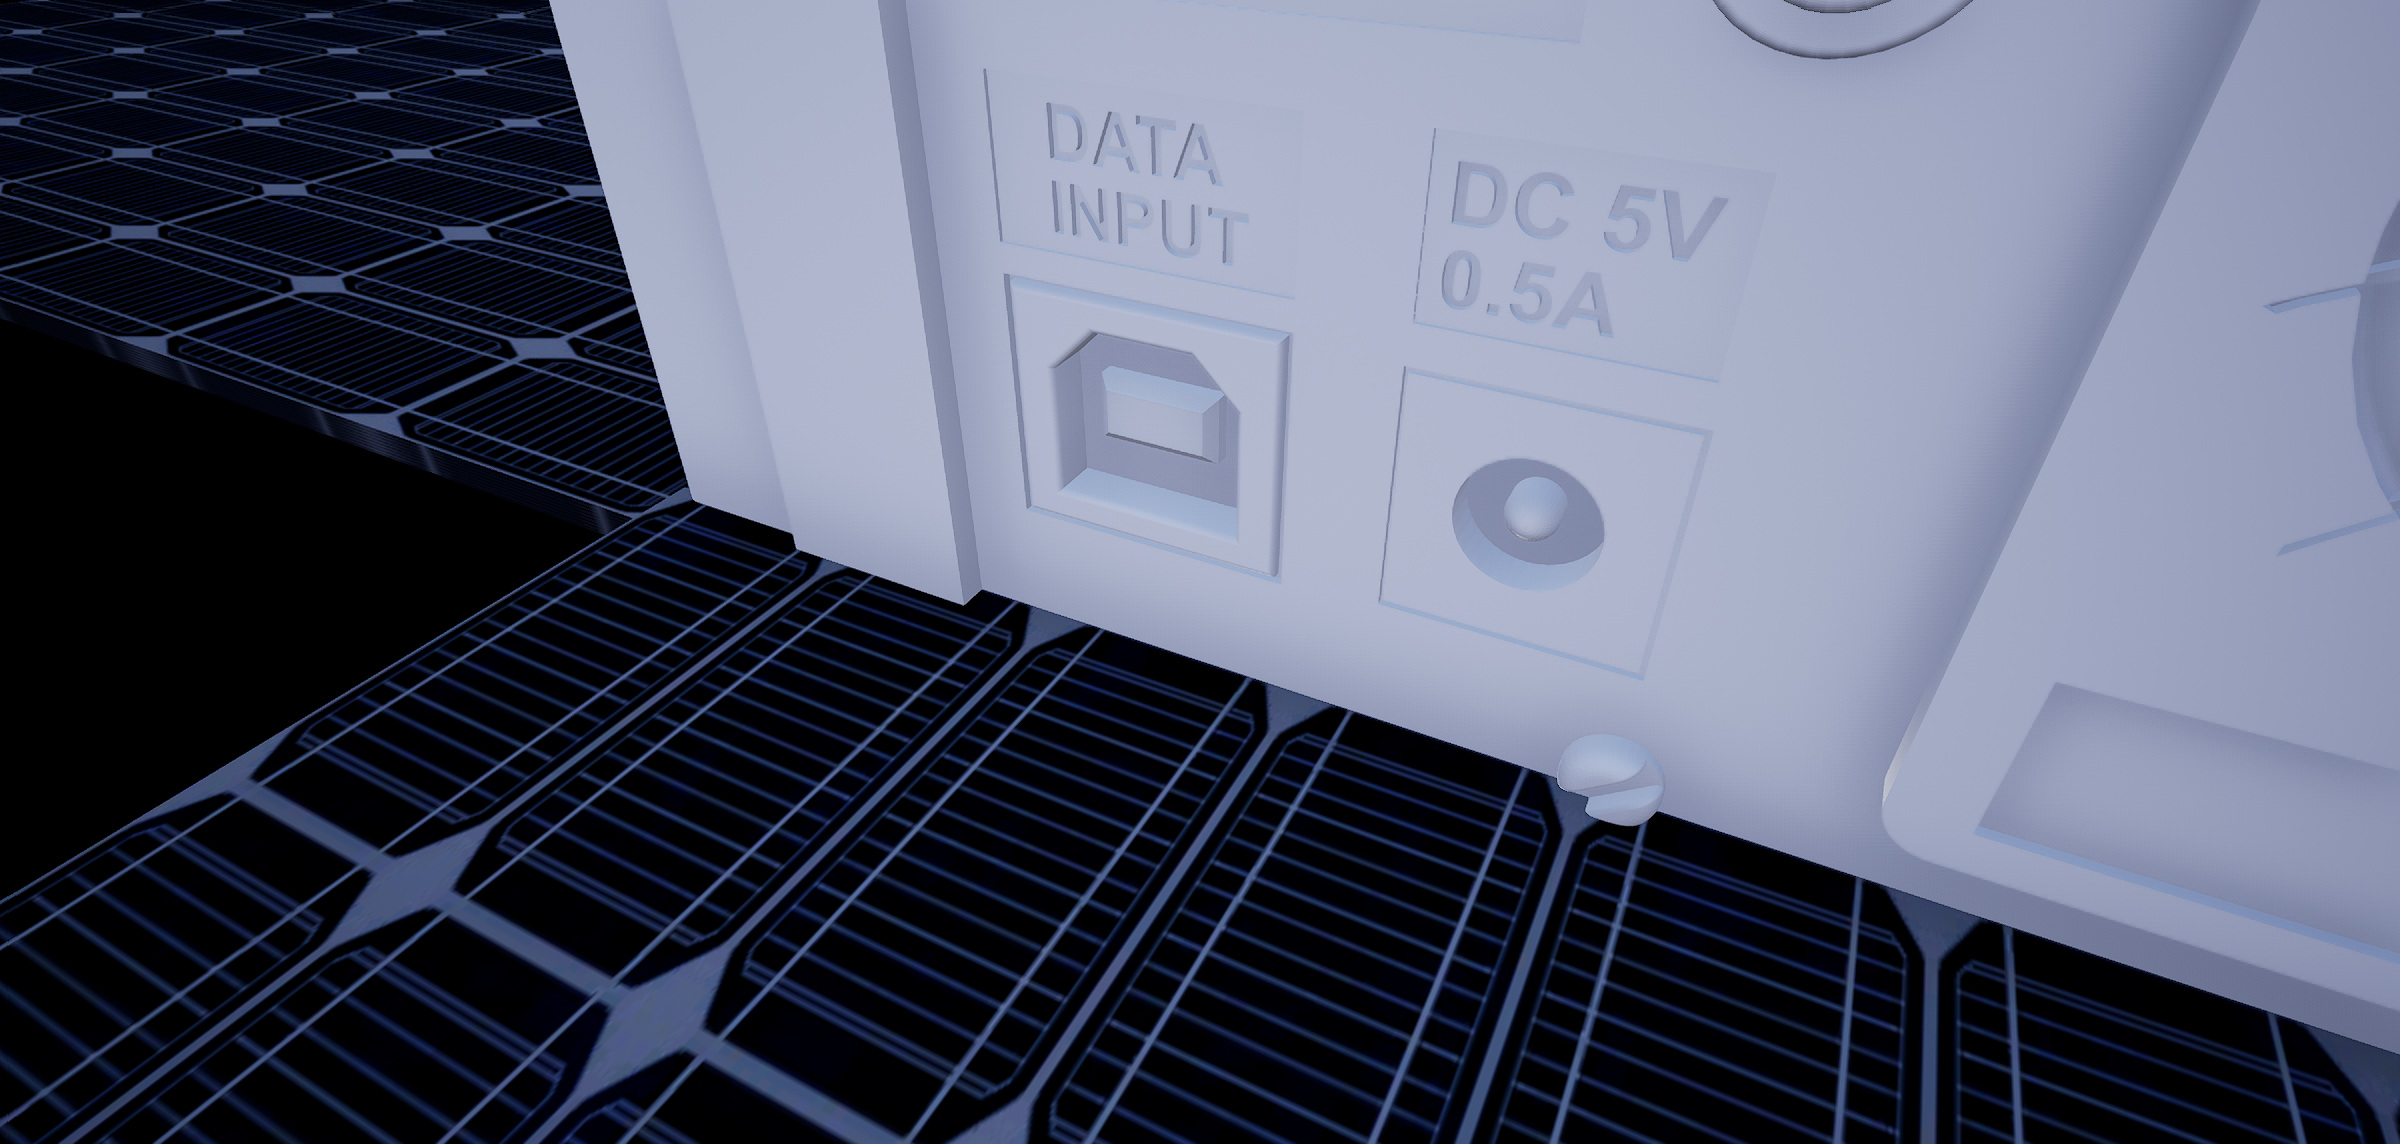dc: (1436, 440, 1619, 620)
usb: (1044, 317, 1263, 554)
